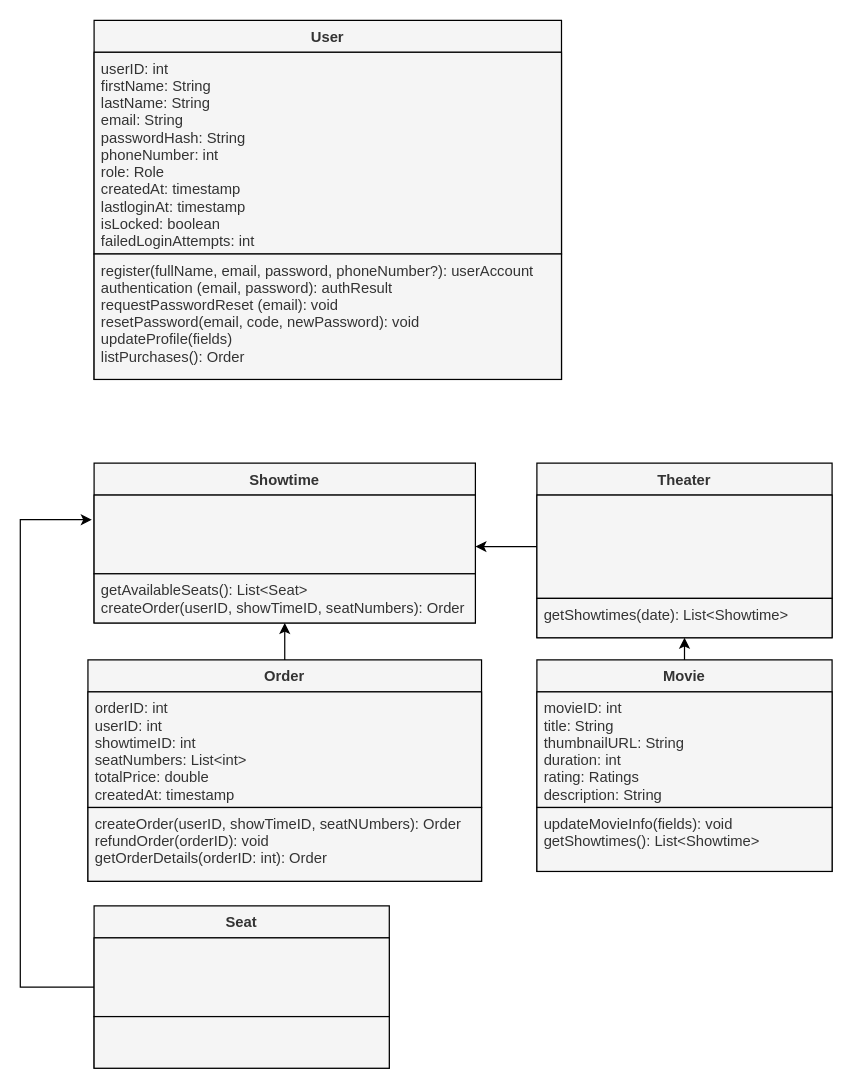
Some shapes in this 852 by 1089 pixel diagram are drawn without their labels. Here are the shapes that lost their labels. From the top down, the box of each, then its label:
(93, 494, 475, 574): showTimeID: int theaterID: int movieID: int startTime: timestamp
(536, 494, 832, 598): theaterID: int name: String address: String city: String phoneNumber: int
(93, 937, 389, 1017): seatNumber: int isReserved: boolean col: int row: char
(93, 1015, 389, 1068): reserve(): void isAvailable(): boolean
